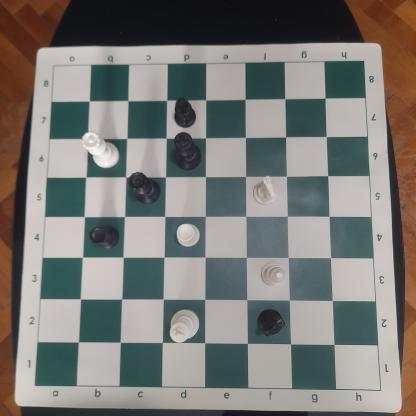black-bishop: (173, 93, 198, 130)
black-king: (172, 130, 203, 171)
black-knight: (256, 306, 286, 339)
black-queen: (128, 168, 161, 205)
black-rook: (90, 222, 120, 252)
white-bishop: (260, 258, 286, 290)
white-king: (164, 306, 202, 344)
white-knight: (252, 173, 281, 207)
white-queen: (81, 129, 122, 169)
white-rook: (176, 221, 202, 250)
